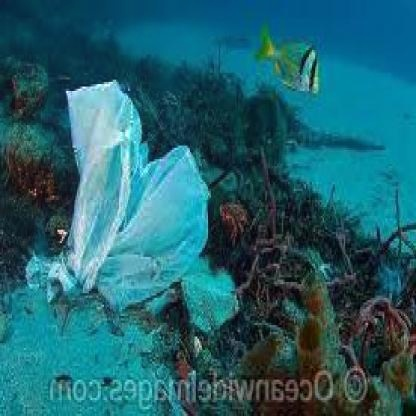pbag: (33, 75, 241, 336)
